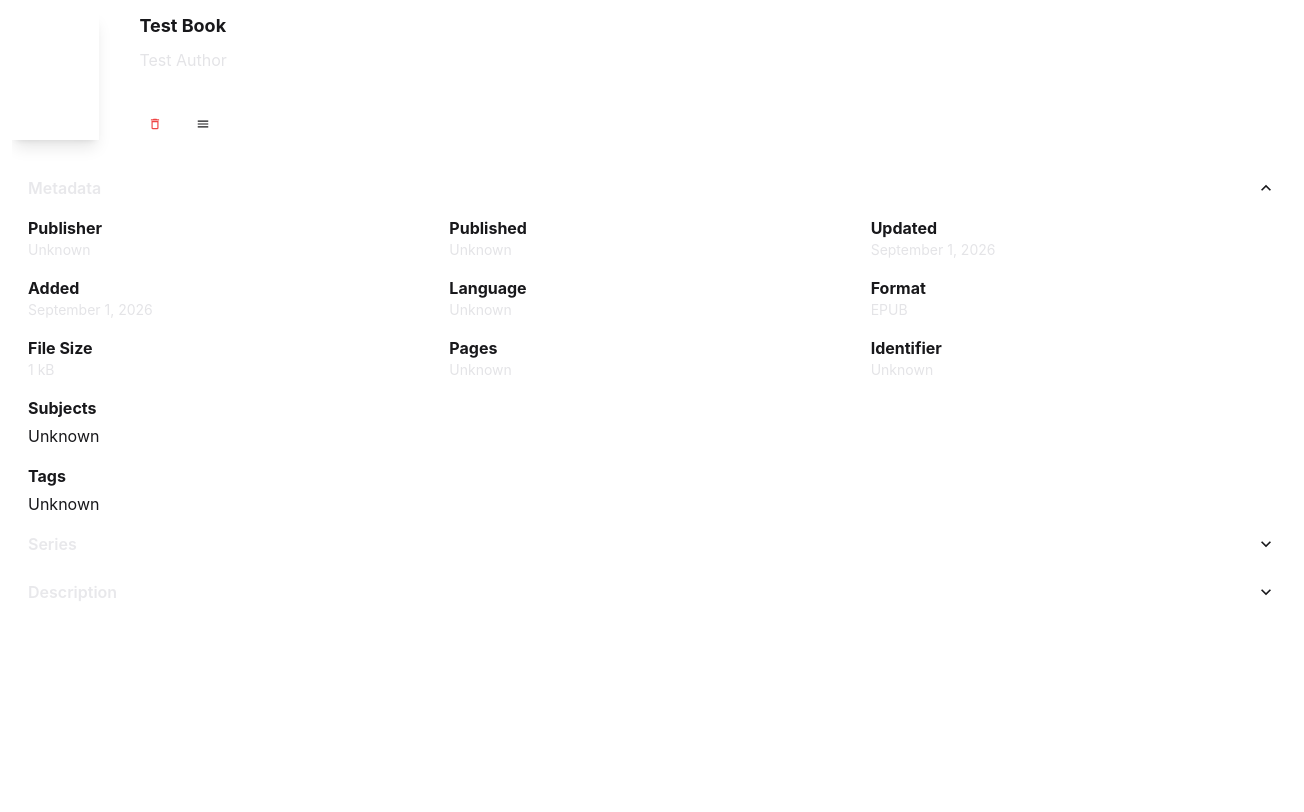
Test case: BookDetailView More menu (Goodreads + Export) › folds Goodreads into the hamburger menu
What coordinates should you click on to do the following:
click the button named "More Actions"
I would click on:
 (203, 124)
Its box is x1=187 y1=108 x2=219 y2=140.
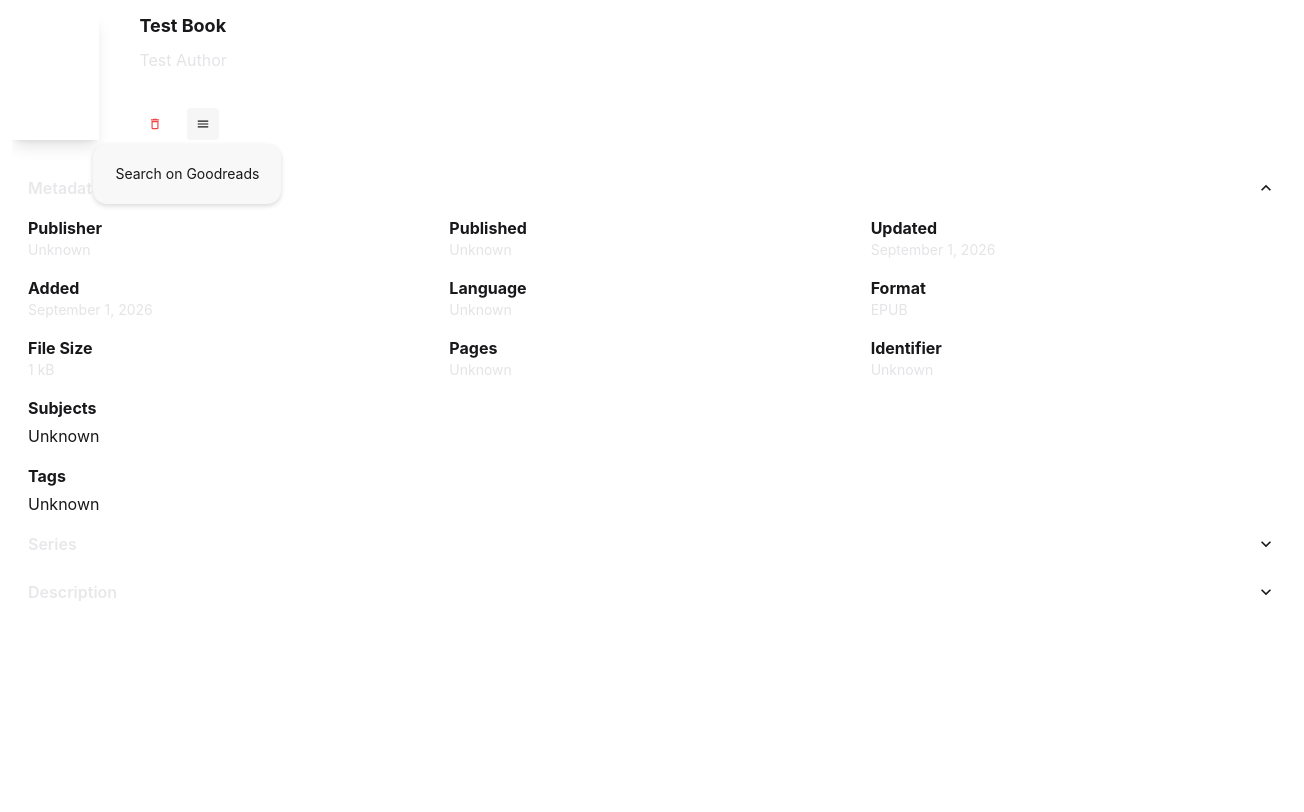
Now the text "Search on Goodreads" is shown, box x1=115 y1=164 x2=259 y2=184
